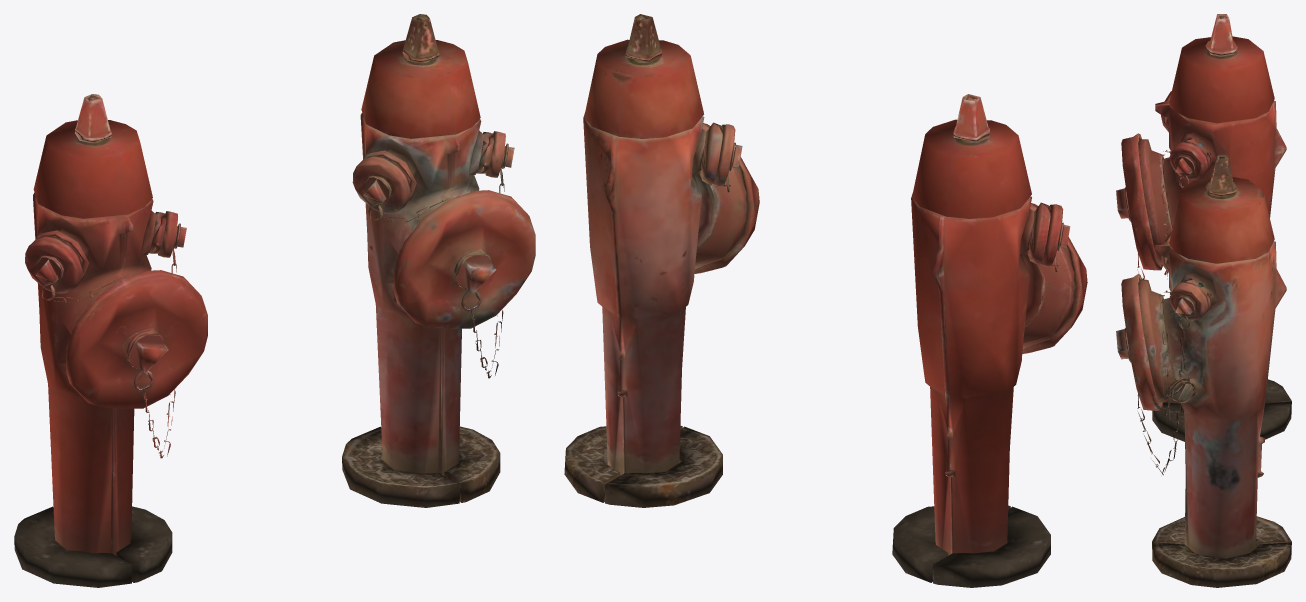
Rendered from hydrant.glb.
3 renders of one model, left to right at view 1: azimuth 30°, elevation 25°; view 2: azimuth 150°, elevation 25°; view 3: azimuth 270°, elevation 25°, orthographic. The views are drawn at different scales.
Parts seen in each view (by area): view 1: fire_hydrant_aged, fire_hydrant; view 2: fire_hydrant, fire_hydrant_aged; view 3: fire_hydrant_aged, fire_hydrant.
Boxes of the visible parts, bbox=[...] form: fire_hydrant_aged: bbox=[342, 14, 535, 507]; fire_hydrant: bbox=[14, 94, 207, 587]; fire_hydrant: bbox=[892, 94, 1087, 587]; fire_hydrant_aged: bbox=[564, 14, 759, 507]; fire_hydrant_aged: bbox=[1116, 154, 1291, 587]; fire_hydrant: bbox=[1116, 14, 1291, 441].
Bounding box in the file's own units: 0.8742 × 0.7992 × 0.3173.
2 materials, 2 textured.
